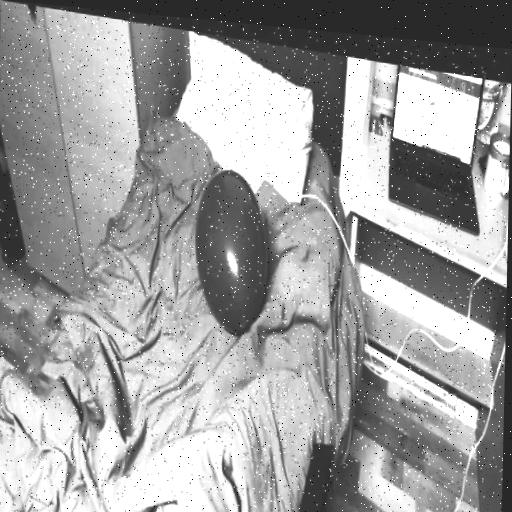balloon: (187, 151, 276, 360)
